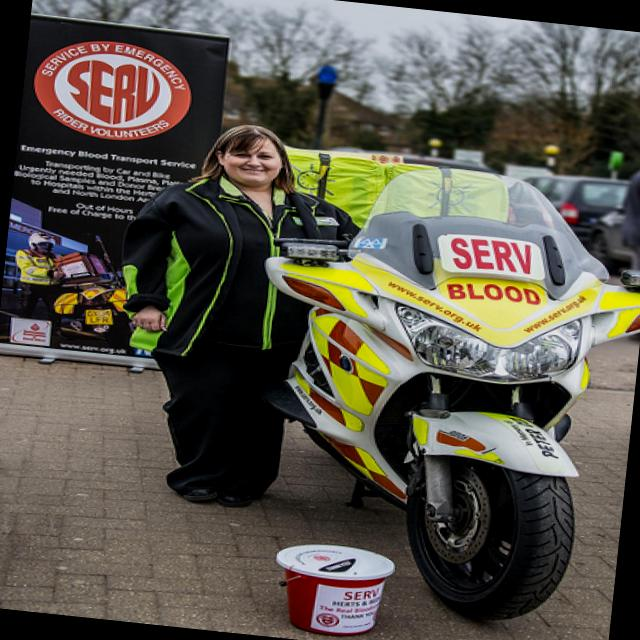Vehicle: (228, 149, 640, 635), (518, 168, 631, 255)
